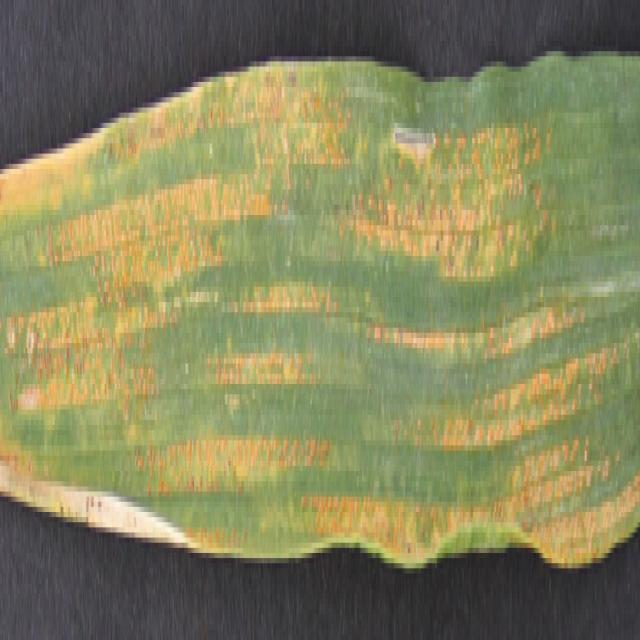leaf rust: (0, 46, 638, 568)
